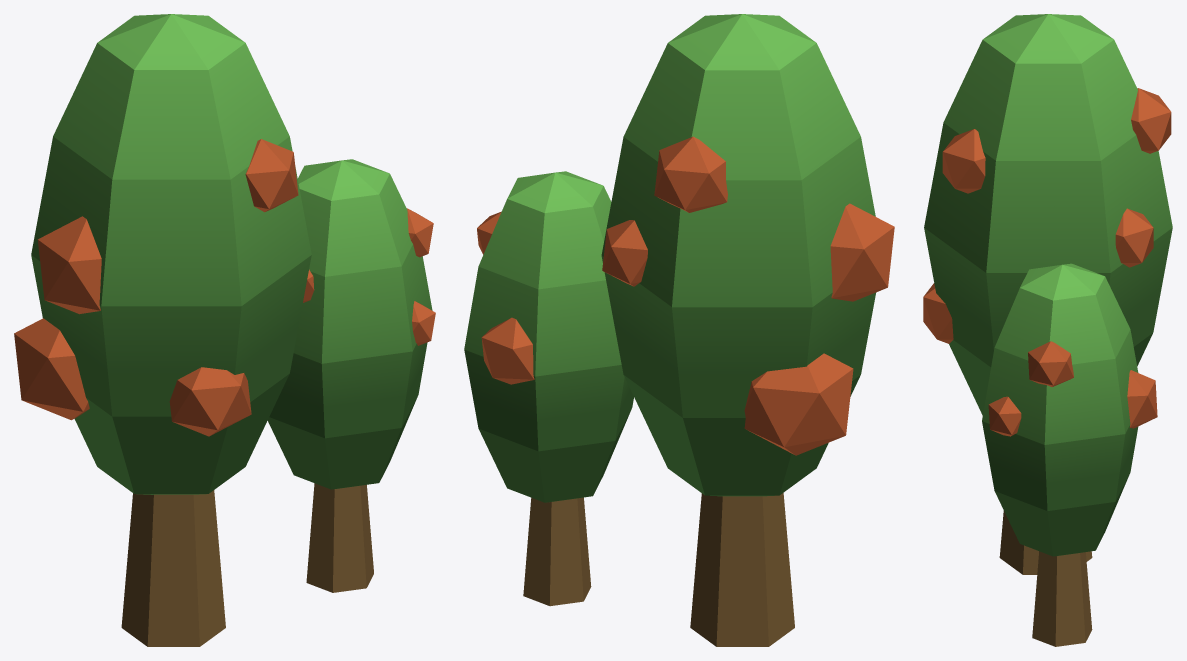
The model's file is resource_tree3.fbx.
The picture shows the model from 3 angles, left to right: view 1: azimuth 30°, elevation 25°; view 2: azimuth 150°, elevation 25°; view 3: azimuth 270°, elevation 25°; orthographic projection. The views are drawn at different scales.
Visible parts, largest first — view 1: resource_tree3; view 2: resource_tree3; view 3: resource_tree3.
Part boxes in pixels (bbox=[...]): resource_tree3: bbox=[14, 14, 435, 646]; resource_tree3: bbox=[464, 14, 894, 646]; resource_tree3: bbox=[923, 14, 1172, 646].
Size of the model in its own units: 154 by 228 by 94.86.
